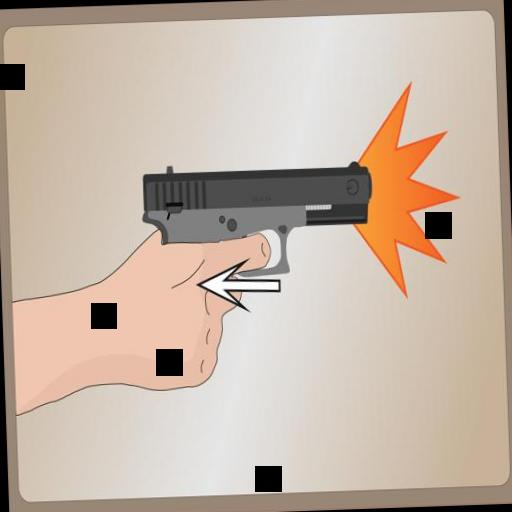Handgun: (138, 149, 374, 282)
